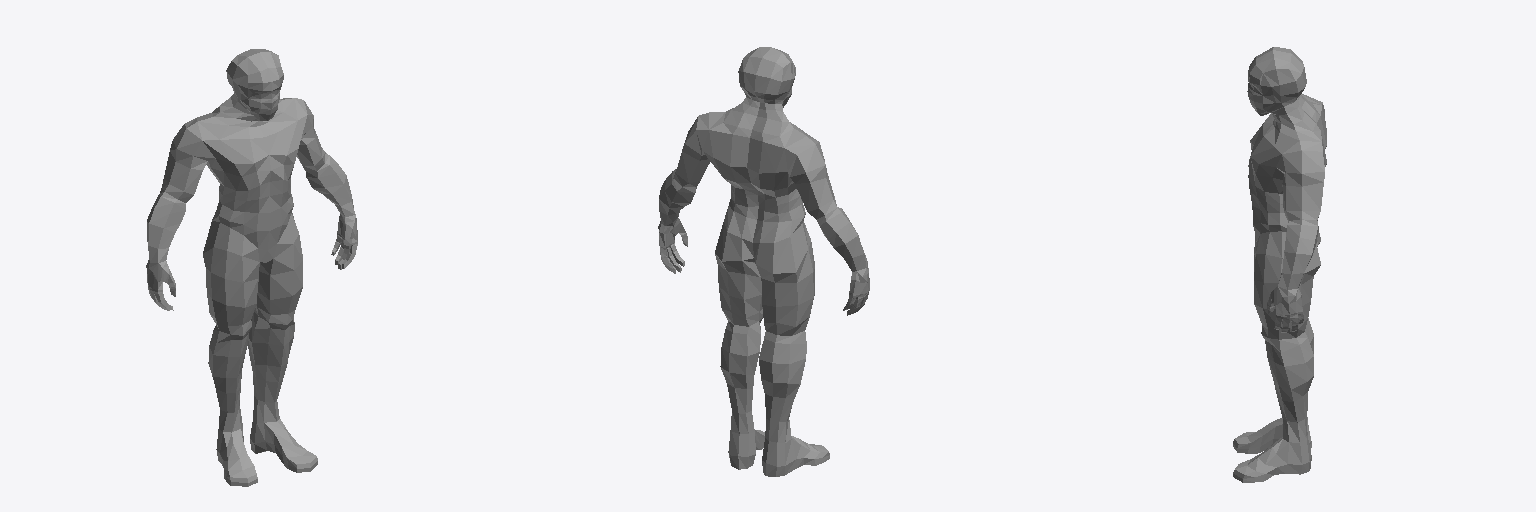
The model's file is jme_lightblow.obj.
The picture shows the model from 3 angles: view 1: azimuth 30°, elevation 25°; view 2: azimuth 150°, elevation 25°; view 3: azimuth 270°, elevation 25°; orthographic projection.
Visible parts, largest first — view 1: jme_lightblow; view 2: jme_lightblow; view 3: jme_lightblow.
Boxes of the visible parts, x1,y1,x2,y2 form: jme_lightblow: [146, 49, 357, 486]; jme_lightblow: [658, 47, 869, 476]; jme_lightblow: [1233, 47, 1326, 482].
Bounding box in the file's own units: 1.01 × 1.92 × 0.3986.